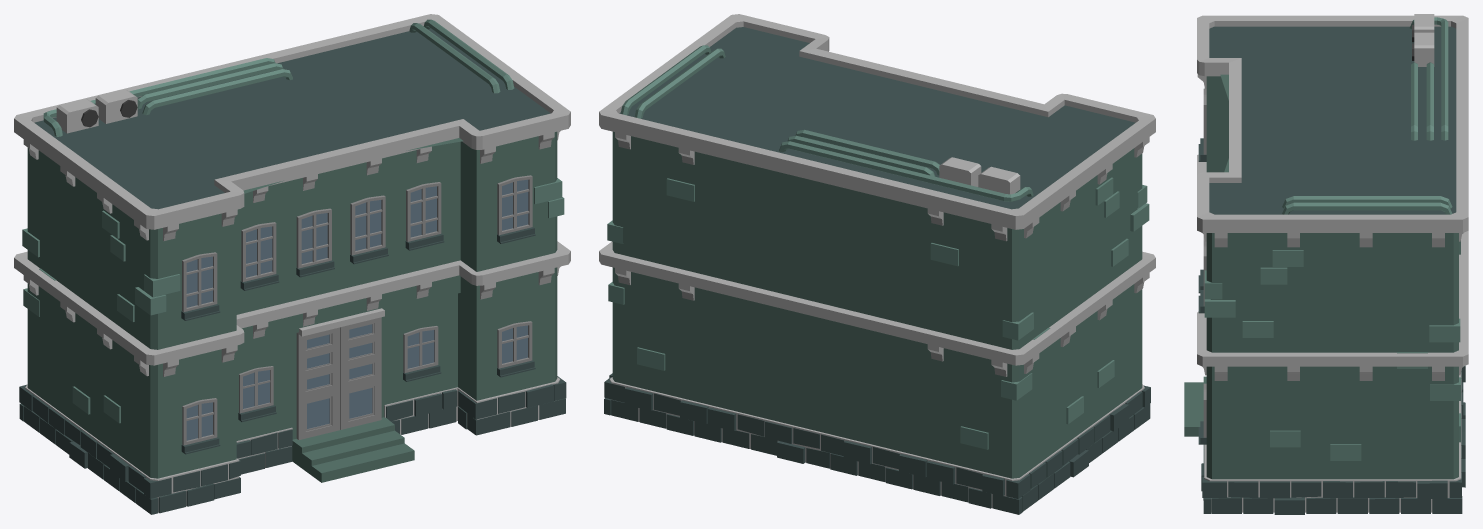
Rendered from 2Story_Wide_Mat.gltf.
3 renders of one model, left to right at view 1: azimuth 30°, elevation 25°; view 2: azimuth 150°, elevation 25°; view 3: azimuth 270°, elevation 25°, orthographic.
Visible parts, largest first — view 1: o 2Story_Wide_Mat_Cube.019; view 2: o 2Story_Wide_Mat_Cube.019; view 3: o 2Story_Wide_Mat_Cube.019.
Boxes of the visible parts, x1,y1,x2,y2 form: o 2Story_Wide_Mat_Cube.019: (14,14,570,514); o 2Story_Wide_Mat_Cube.019: (599,14,1155,514); o 2Story_Wide_Mat_Cube.019: (1184,14,1468,514).
Bounding box in the file's own units: 3.83 × 2.75 × 2.26.
